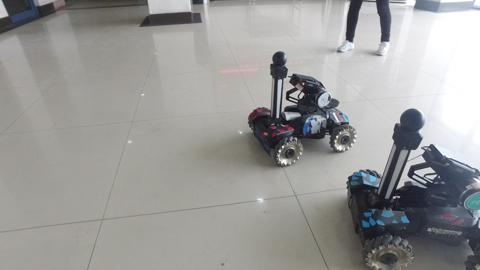chariot: (345, 103, 480, 270), (242, 46, 364, 168)
